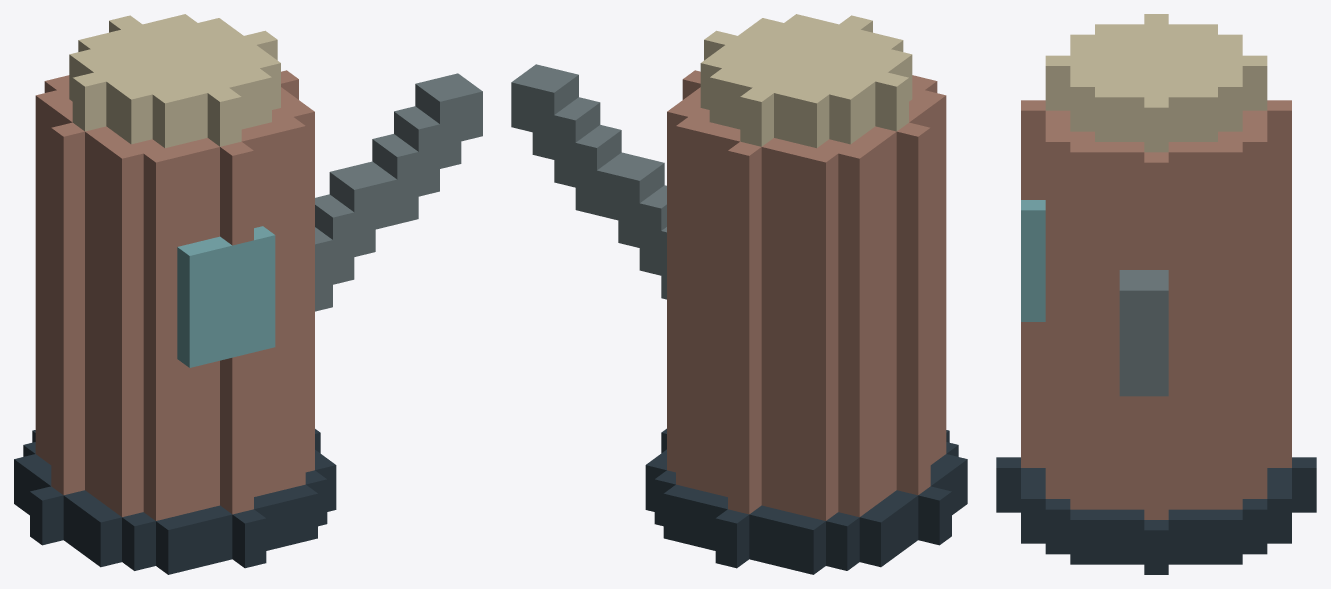
The model's file is automotive-16.glb.
3 views of the same model, side by side, from view 1: azimuth 30°, elevation 25°; view 2: azimuth 150°, elevation 25°; view 3: azimuth 270°, elevation 25° (orthographic).
Visible parts, largest first — view 1: Fuel pump; view 2: Fuel pump; view 3: Fuel pump.
Boxes of the visible parts, bbox=[...] form: Fuel pump: bbox=[14, 14, 482, 574]; Fuel pump: bbox=[511, 14, 967, 574]; Fuel pump: bbox=[996, 14, 1316, 574].
Bounding box in the file's own units: 1.6 × 1.6 × 1.04.
